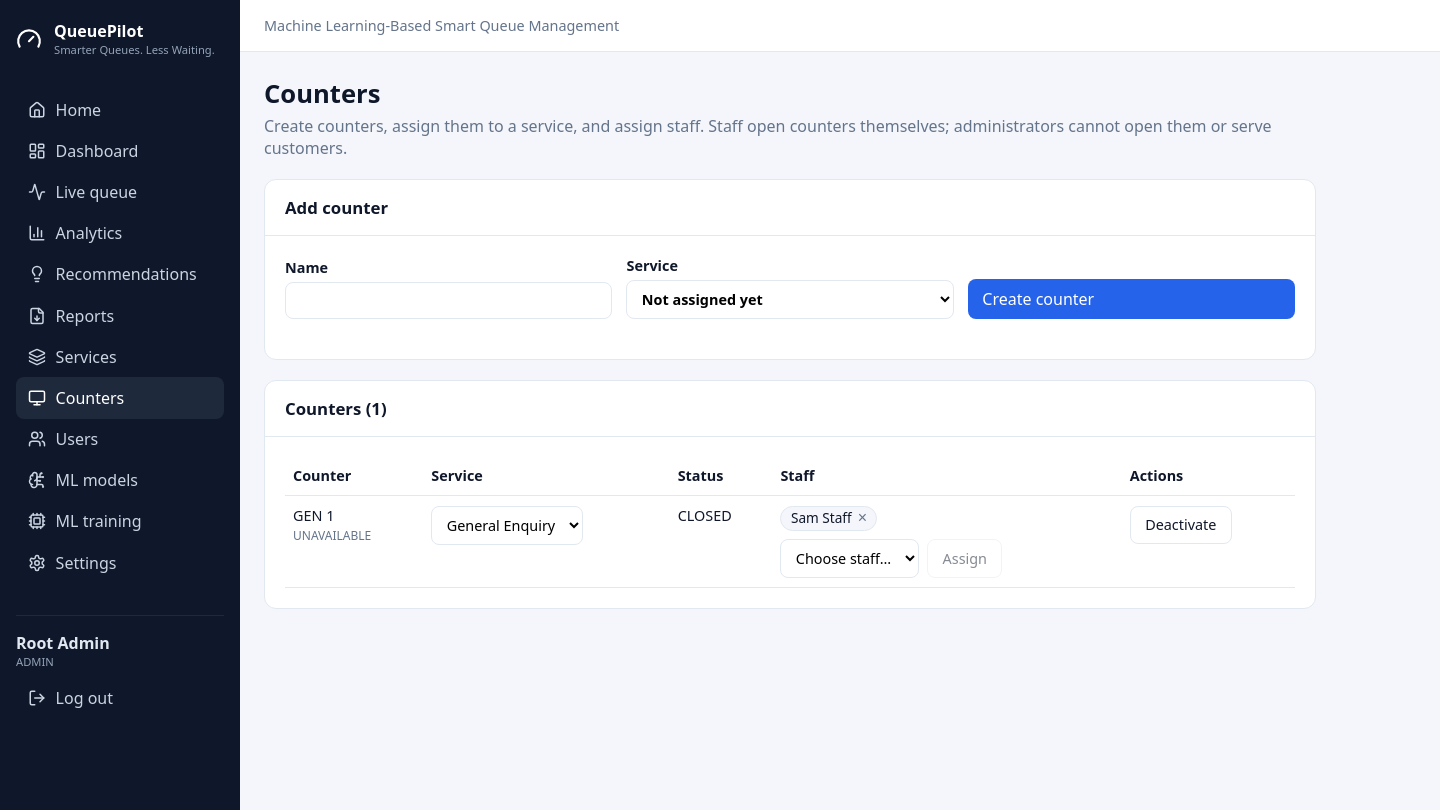
Test case: counters page lists staff and assigns only staff who are not already assigned
Check: the text "GEN 1" is shown, box [293,506,334,525]
Select "Tess Teller" in the dropdown named "Staff to assign to GEN 1" at (850, 558), box [780,539,919,578]
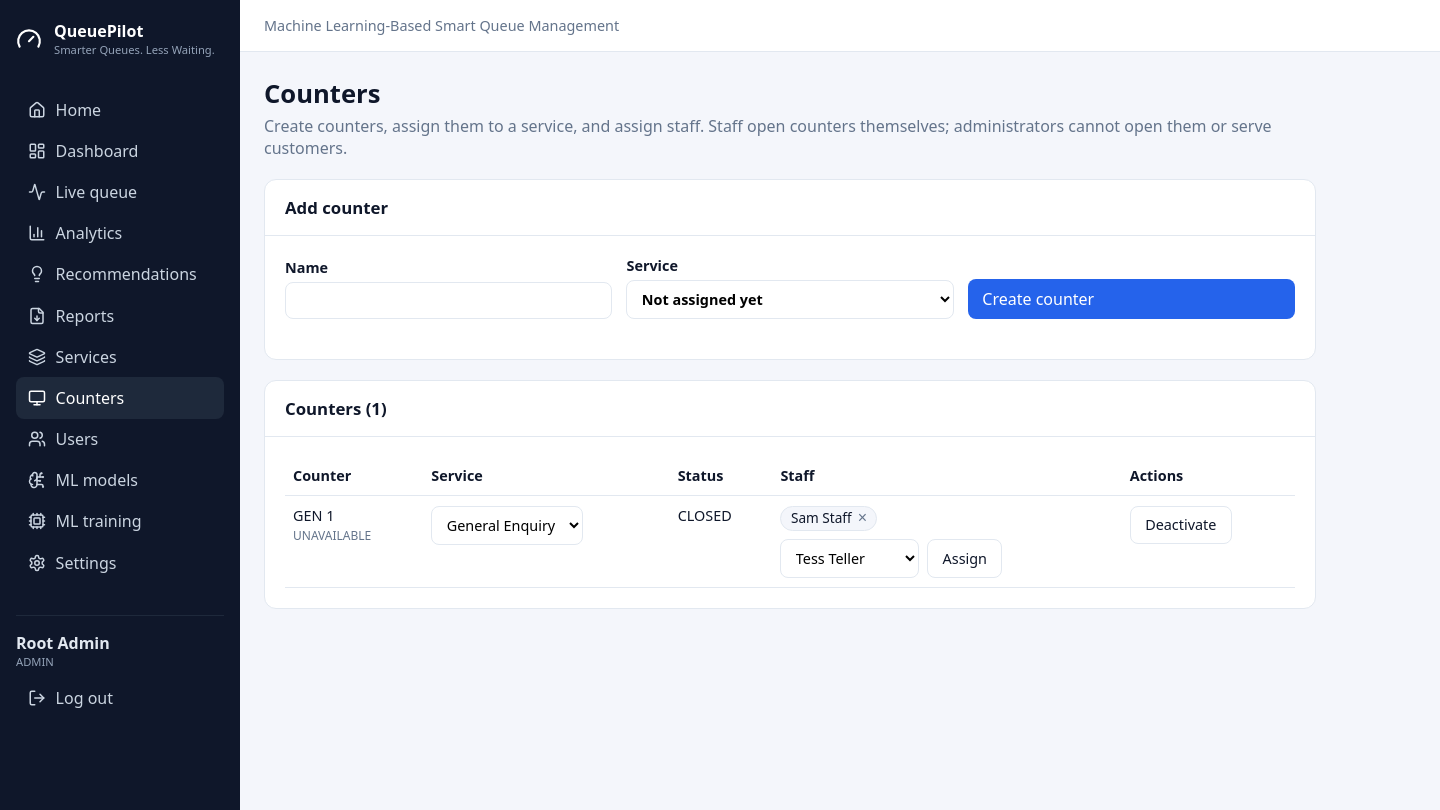
Click the button with aria-label "Assign staff to GEN 1" at (965, 558), box [927,539,1002,578]
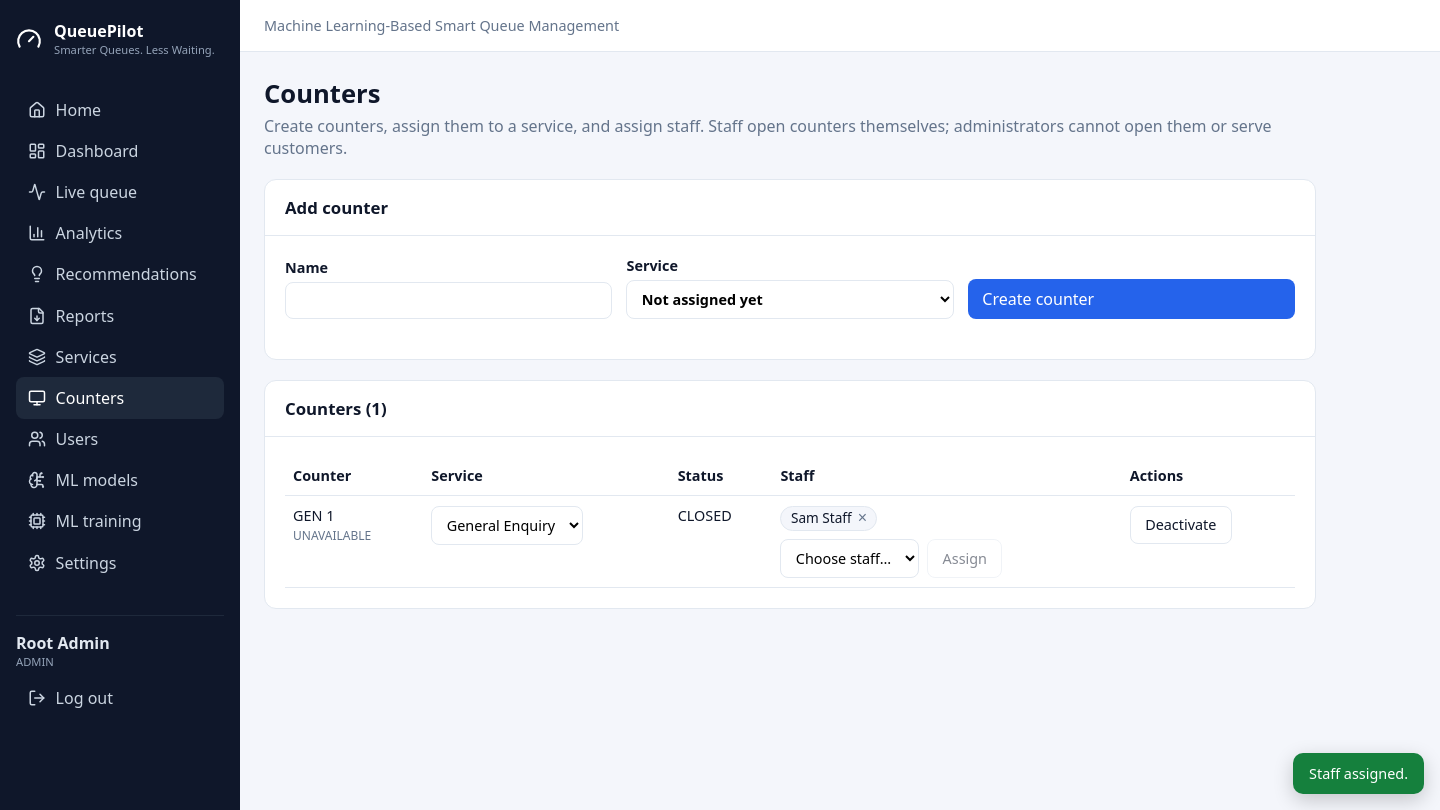
Check: the text "Staff assigned." is shown, box [1293,753,1424,794]
